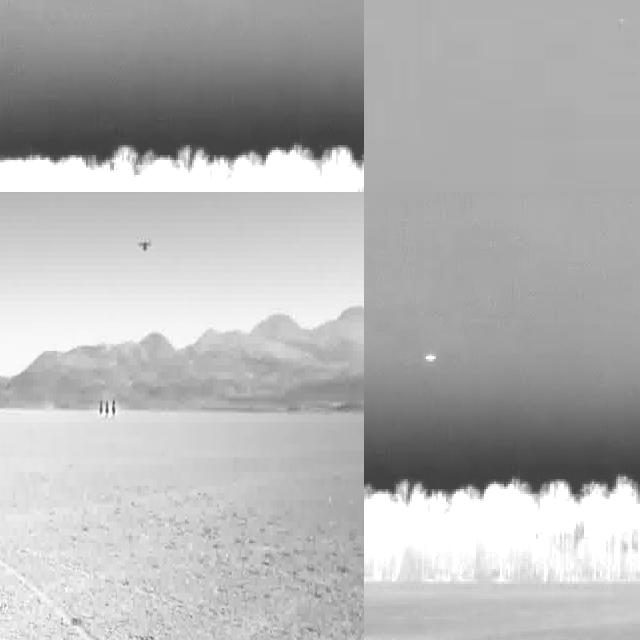0: (613, 8, 637, 35)
1: (418, 349, 448, 369), (182, 0, 212, 4)
drone: (136, 232, 154, 258)
